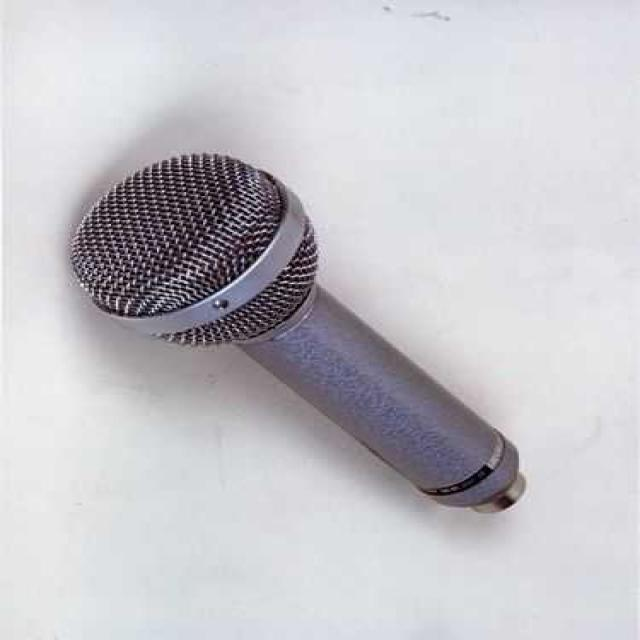microphone: (68, 138, 551, 538)
